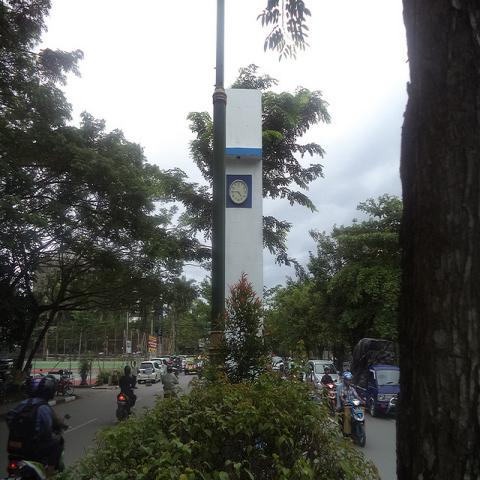car: (303, 360, 341, 393), (138, 361, 162, 384), (33, 378, 57, 400), (150, 358, 168, 374), (161, 355, 174, 374), (173, 357, 182, 376), (185, 361, 197, 374)
motorcycle: (4, 412, 72, 479), (346, 398, 368, 447), (116, 387, 138, 422), (323, 378, 337, 415), (164, 387, 184, 398)
truck: (350, 338, 402, 416)
